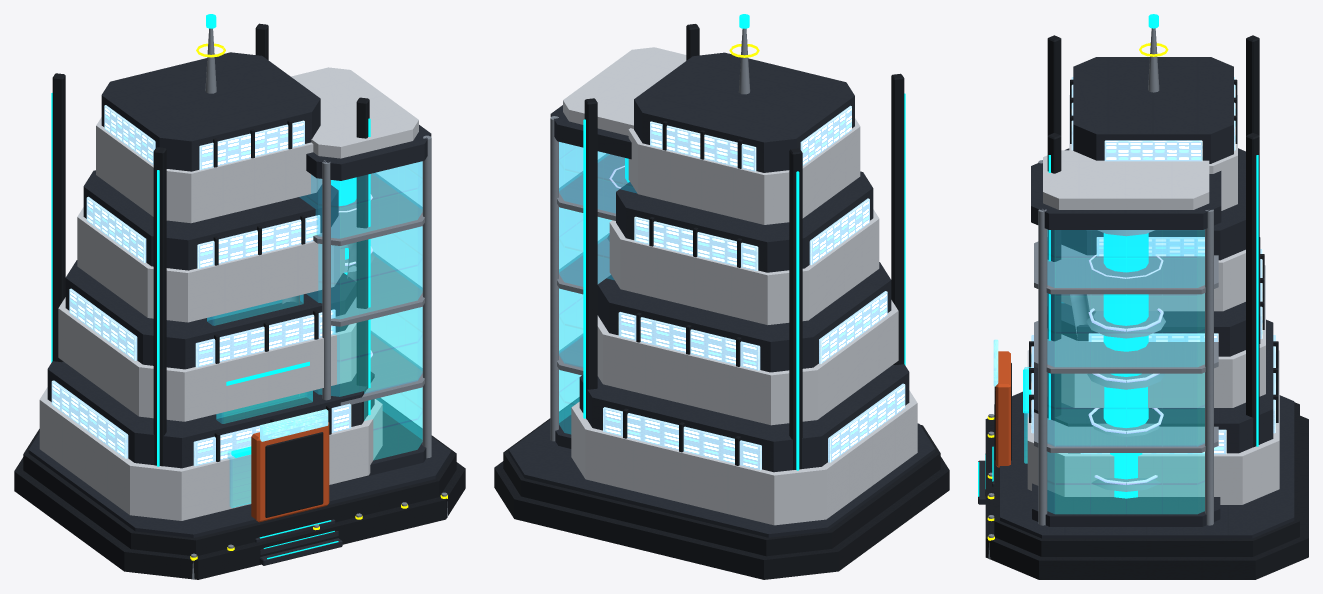
File: bldg_09_r1_04.glb
3 views of the same model, side by side, from view 1: azimuth 30°, elevation 25°; view 2: azimuth 150°, elevation 25°; view 3: azimuth 270°, elevation 25° (orthographic). The views are drawn at different scales.
Visible parts, largest first — view 1: Bldg09_C04_aero_white, Bldg09_C04_carbon_slate, Bldg09_C04_gunmetal, Bldg09_C04_glass_cyan, Bldg09_C04_window_lit, Bldg09_C04_steel_machined, Bldg09_C04_led_cyan, Bldg09_C04_accent_orange, Bldg09_C04_marquee; view 2: Bldg09_C04_aero_white, Bldg09_C04_carbon_slate, Bldg09_C04_gunmetal, Bldg09_C04_window_lit, Bldg09_C04_glass_cyan, Bldg09_C04_steel_machined, Bldg09_C04_led_cyan; view 3: Bldg09_C04_carbon_slate, Bldg09_C04_glass_cyan, Bldg09_C04_aero_white, Bldg09_C04_gunmetal, Bldg09_C04_steel_machined, Bldg09_C04_led_cyan, Bldg09_C04_window_lit, Bldg09_C04_accent_orange, Bldg09_C04_led_uv.
Boxes of the visible parts, <box> form: Bldg09_C04_aero_white: <box>39,67,418,520</box>; Bldg09_C04_carbon_slate: <box>28,52,451,565</box>; Bldg09_C04_gunmetal: <box>14,23,465,579</box>; Bldg09_C04_glass_cyan: <box>207,161,422,507</box>; Bldg09_C04_window_lit: <box>51,105,351,466</box>; Bldg09_C04_steel_machined: <box>191,28,447,579</box>; Bldg09_C04_led_cyan: <box>51,14,370,559</box>; Bldg09_C04_accent_orange: <box>251,422,329,522</box>; Bldg09_C04_marquee: <box>260,409,328,441</box>; Bldg09_C04_aero_white: <box>563,47,917,525</box>; Bldg09_C04_carbon_slate: <box>508,52,935,537</box>; Bldg09_C04_gunmetal: <box>494,24,949,579</box>; Bldg09_C04_window_lit: <box>603,105,905,470</box>; Bldg09_C04_glass_cyan: <box>559,142,636,433</box>; Bldg09_C04_steel_machined: <box>550,28,930,441</box>; Bldg09_C04_led_cyan: <box>583,14,905,470</box>; Bldg09_C04_carbon_slate: <box>978,57,1294,538</box>; Bldg09_C04_glass_cyan: <box>1024,229,1204,513</box>; Bldg09_C04_aero_white: <box>1027,95,1279,504</box>; Bldg09_C04_gunmetal: <box>985,35,1308,579</box>; Bldg09_C04_steel_machined: <box>988,28,1218,559</box>; Bldg09_C04_led_cyan: <box>978,14,1258,498</box>; Bldg09_C04_window_lit: <box>1031,77,1275,454</box>; Bldg09_C04_accent_orange: <box>995,351,1010,467</box>; Bldg09_C04_led_uv: <box>1088,255,1163,484</box>.
Bounding box in the file's own units: 12 × 16.02 × 10.23.
Materials: 11 (11 with a texture image).
